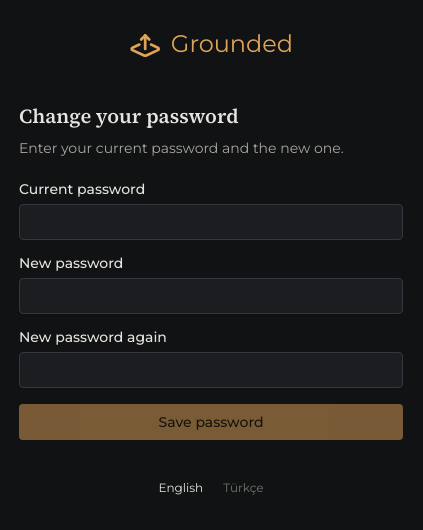
Test case: the password page › changes the password with the current one, and says when that one is wrong
The width and height of the screenshot is (423, 530).
Expected: the heading "Change your password" is shown, [19,102,239,130]
Type "the old one, maybe" into the password field labelled "Current password".
click(211, 222); type("the old one, maybe")  # box [19,204,403,240]
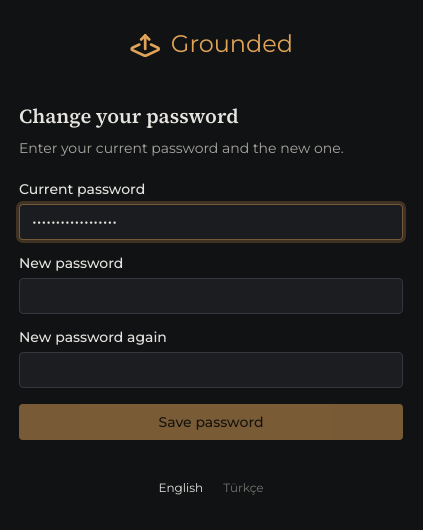
Type "the new password" into the password field labelled "New password".
click(211, 296); type("the new password")  # box [19,278,403,314]
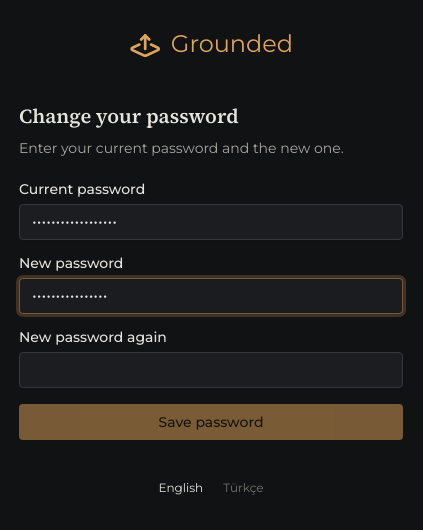
Type "the new password" into the password field labelled "New password again".
click(211, 370); type("the new password")  # box [19,352,403,388]
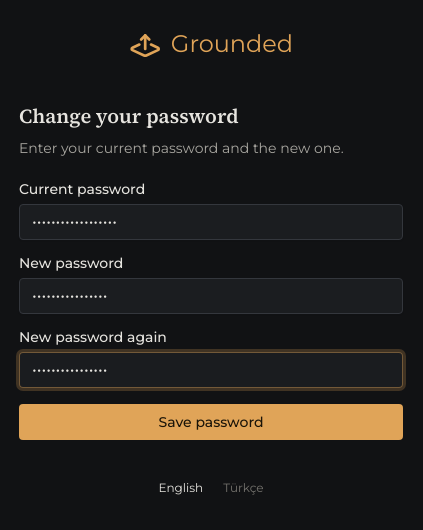
Click the button "Save password".
click(211, 422)  # box [19,404,403,440]
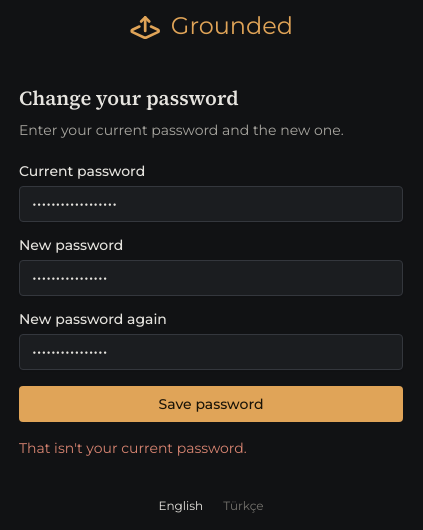
Now the text "That isn't your current password." is shown, box [19,439,247,457]
